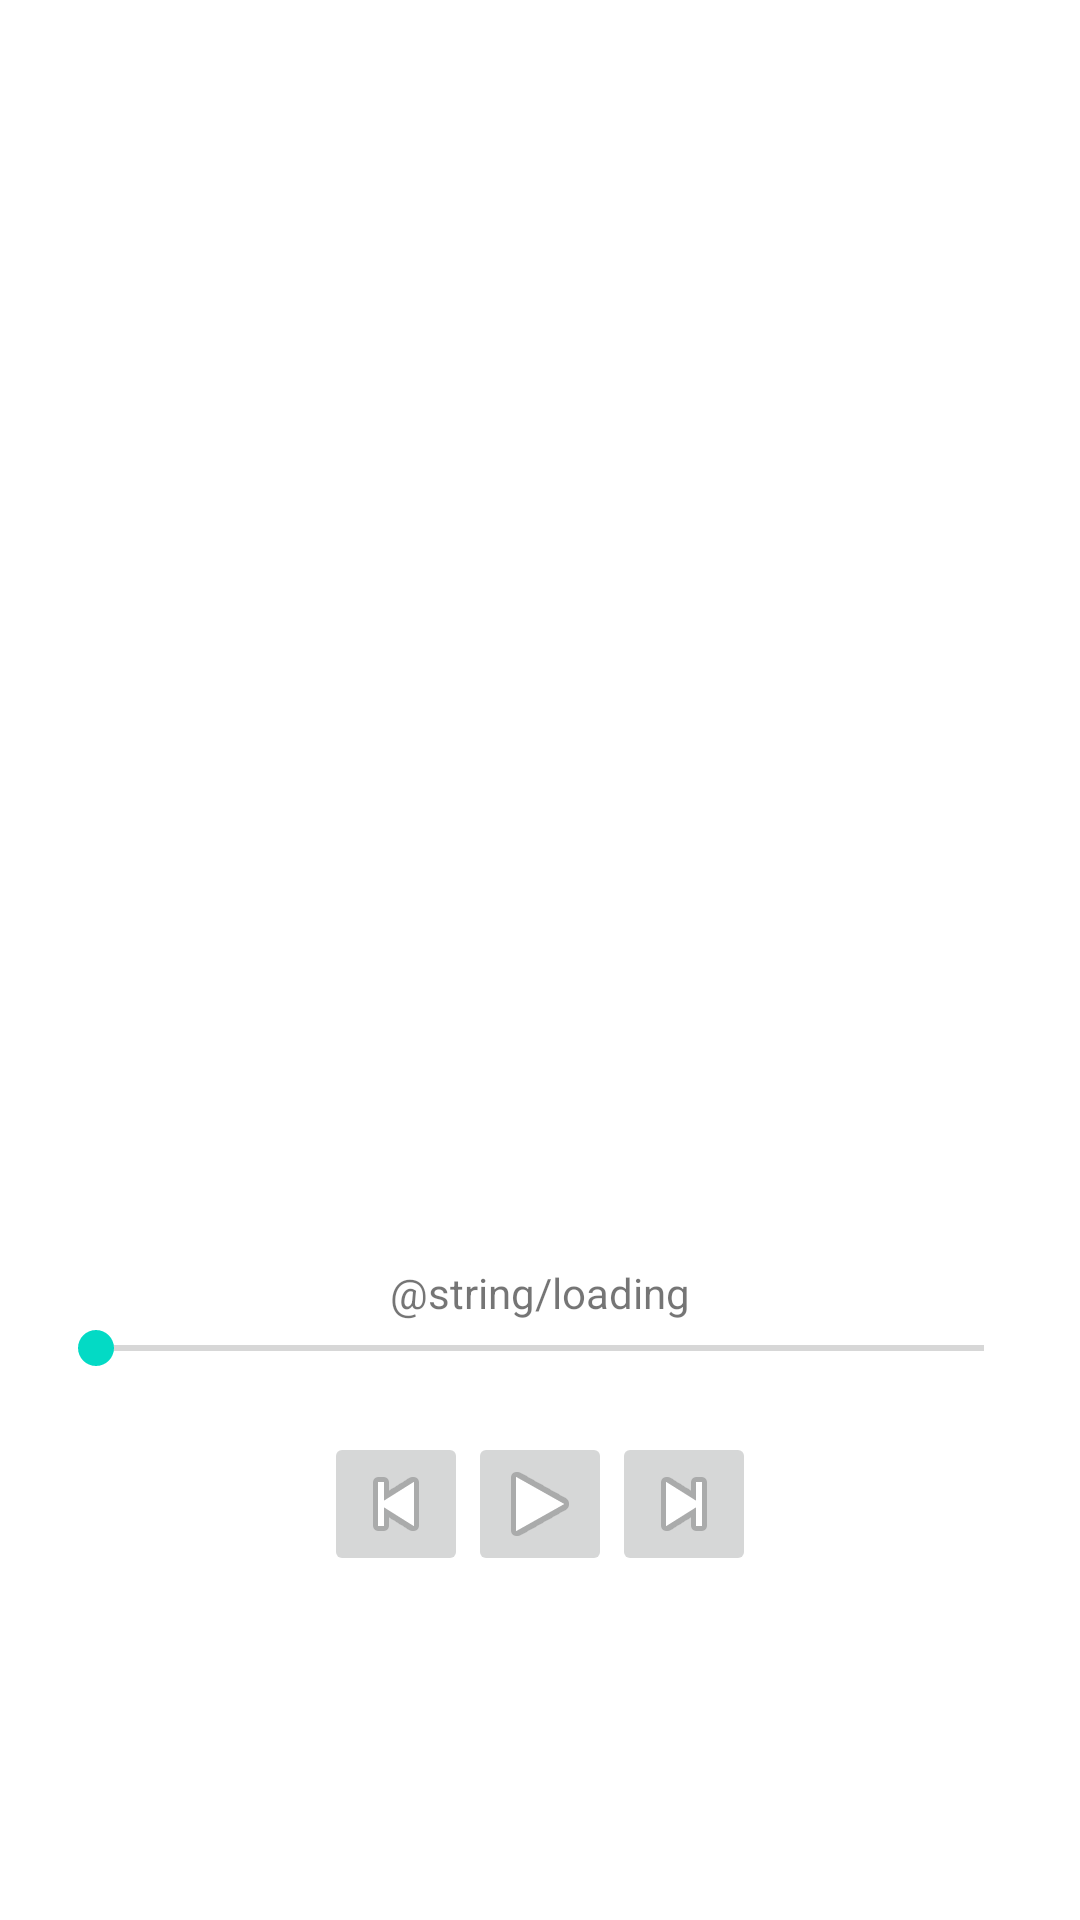

Icons on this 1080×1920 Android screen, each with its box as bbox(x1, y1, x2, y2):
next: bbox(624, 1450, 744, 1558)
play: bbox(480, 1450, 600, 1558)
previous: bbox(336, 1450, 456, 1558)
